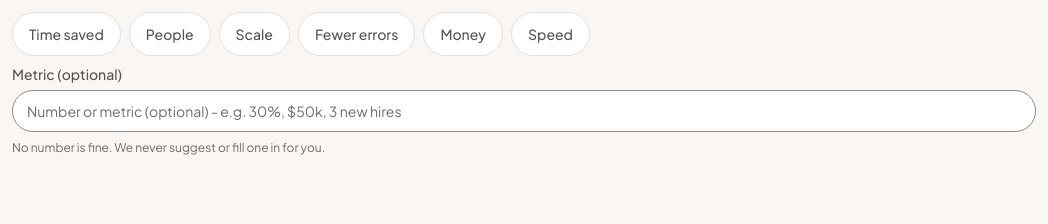
Scenario: MetricPrompts › selects the blank so typing replaces it, and asks for it to be filled
Click the button "Speed".
click(550, 34)  # box [511, 12, 590, 56]
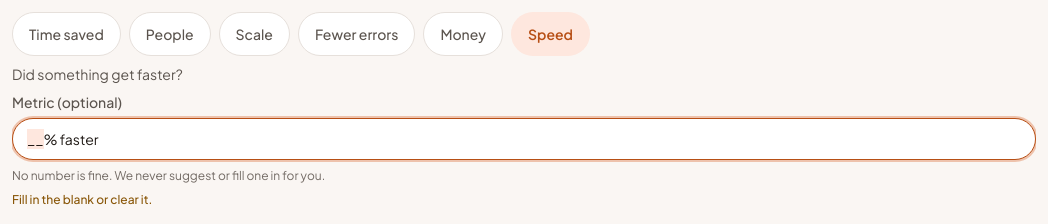
Result: the field holds "__% faster"
Result: the text "Fill in the blank or clear it." is shown at [12, 192, 152, 207]
Replace the text in the field with "30% faster" at (524, 139), box [12, 118, 1036, 160]
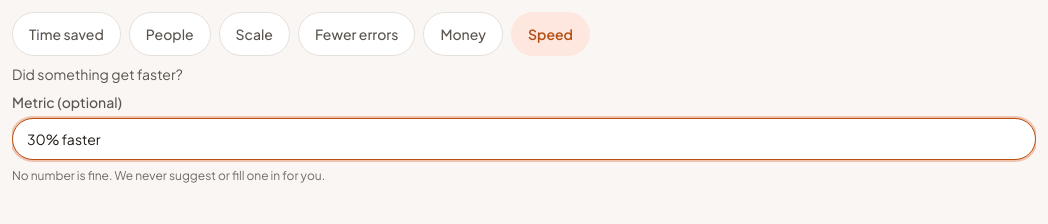
Result: the text "Fill in the blank or clear it." is gone
